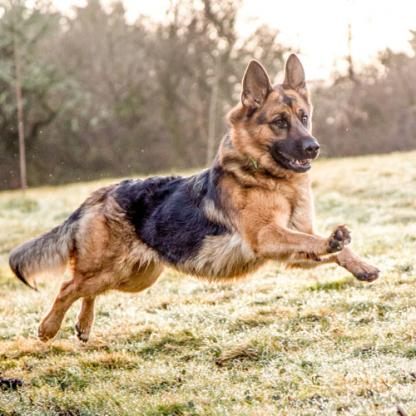german shepherd: (10, 60, 379, 328)
